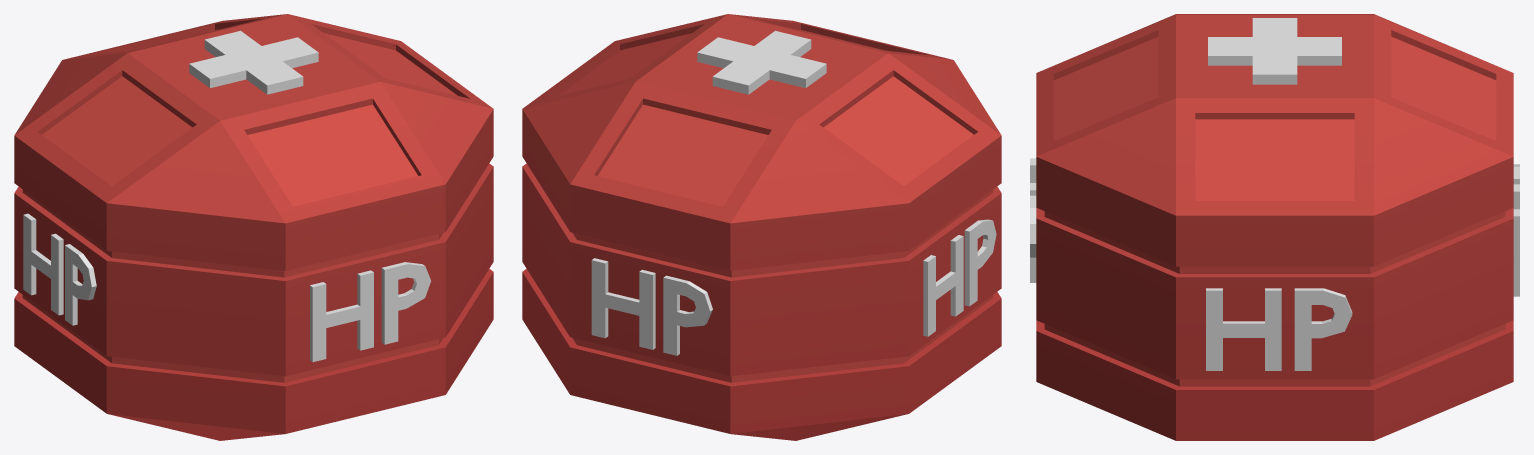
File: Healthpack_02.fbx
3 renders of one model, left to right at view 1: azimuth 30°, elevation 25°; view 2: azimuth 150°, elevation 25°; view 3: azimuth 270°, elevation 25°, orthographic. The views are drawn at different scales.
Visible parts, largest first — view 1: Healthpack_02; view 2: Healthpack_02; view 3: Healthpack_02.
Boxes of the visible parts, left/top/right/bottom form: Healthpack_02: left=14, top=14, right=493, bottom=440; Healthpack_02: left=522, top=14, right=1001, bottom=440; Healthpack_02: left=1030, top=14, right=1519, bottom=440.
Size of the model in its own units: 0.4592 by 0.3644 by 0.4592.
